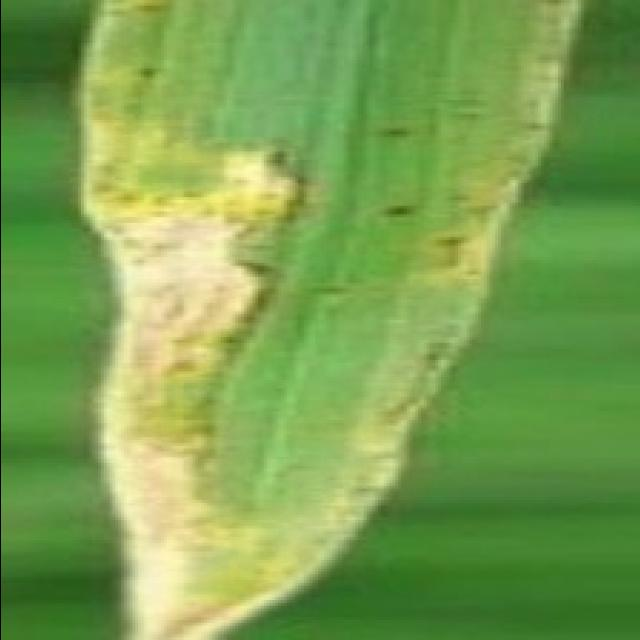Unhealthy: (67, 0, 581, 640), (368, 199, 413, 221)
